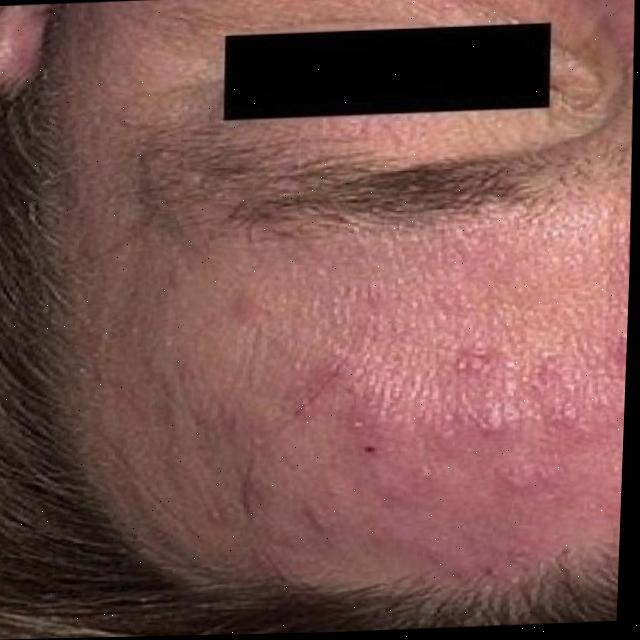Rosacea: (226, 259, 630, 571)
